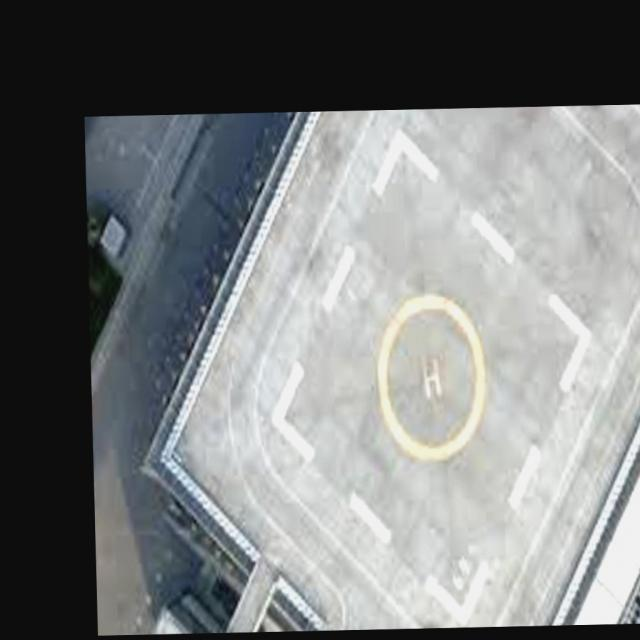helipad: (372, 288, 490, 468)
